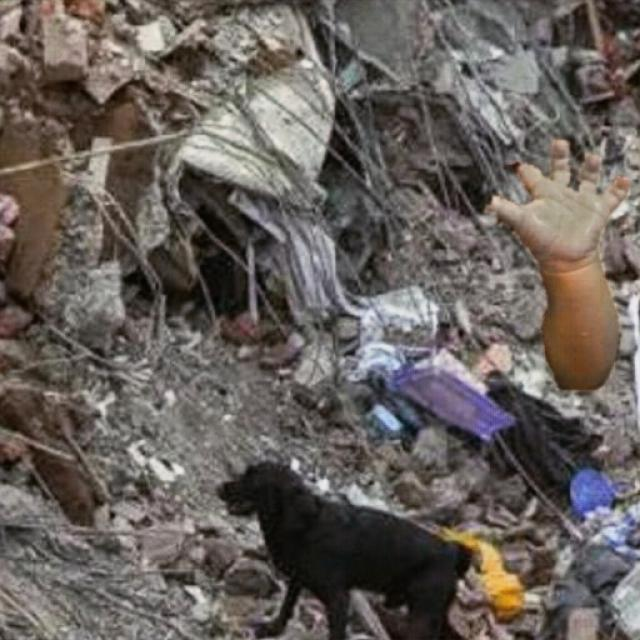Person in Rubble: (484, 140, 628, 389)
